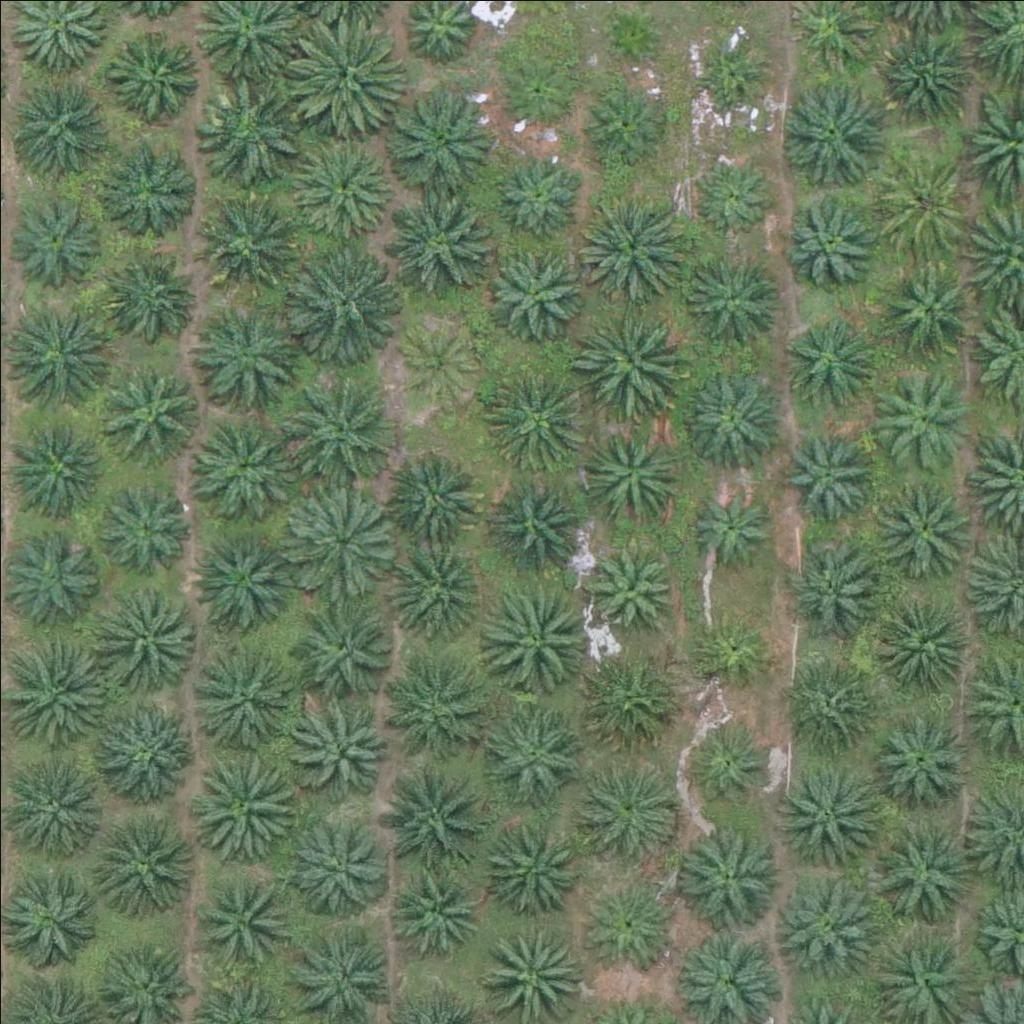Kelapa_Sawit: (287, 369, 400, 483), (486, 584, 599, 697), (187, 746, 300, 859), (194, 77, 307, 190), (287, 244, 400, 357), (577, 191, 690, 304), (576, 303, 689, 416), (290, 23, 402, 137), (865, 815, 977, 928), (767, 872, 879, 985), (771, 757, 883, 870), (567, 757, 679, 870), (378, 757, 490, 870), (287, 485, 399, 598), (186, 642, 298, 755), (479, 361, 591, 474), (777, 77, 889, 190), (381, 178, 493, 291), (386, 85, 498, 198), (866, 593, 966, 694), (866, 710, 966, 811), (782, 646, 882, 747), (777, 537, 877, 638), (679, 826, 779, 927), (567, 650, 667, 751), (484, 915, 584, 1016), (485, 703, 585, 804), (494, 474, 594, 575), (391, 543, 491, 644), (381, 643, 481, 744), (287, 816, 387, 917), (290, 700, 390, 801), (192, 535, 292, 636), (191, 869, 291, 970), (97, 812, 197, 913), (91, 704, 191, 805), (92, 579, 192, 680), (107, 23, 207, 124), (5, 415, 105, 516), (291, 135, 391, 236), (486, 241, 586, 342), (582, 422, 682, 523), (684, 362, 784, 463), (682, 249, 782, 350), (780, 190, 880, 291), (874, 372, 974, 473), (877, 262, 977, 363), (870, 480, 970, 580), (479, 818, 579, 918), (297, 594, 397, 694), (876, 20, 976, 120), (7, 67, 107, 167), (7, 191, 107, 291), (95, 146, 195, 246), (103, 366, 203, 466), (98, 250, 198, 350), (192, 417, 292, 517), (192, 300, 292, 400), (200, 187, 300, 287), (390, 447, 490, 547), (871, 154, 971, 254), (685, 611, 773, 699), (685, 724, 773, 812), (590, 543, 678, 631), (494, 47, 582, 135), (393, 316, 481, 404), (689, 149, 777, 237), (786, 317, 874, 405), (787, 426, 875, 514), (493, 150, 580, 239), (691, 479, 778, 567), (582, 880, 669, 968), (393, 871, 480, 959), (102, 483, 189, 571), (584, 77, 671, 165), (690, 27, 765, 102)
